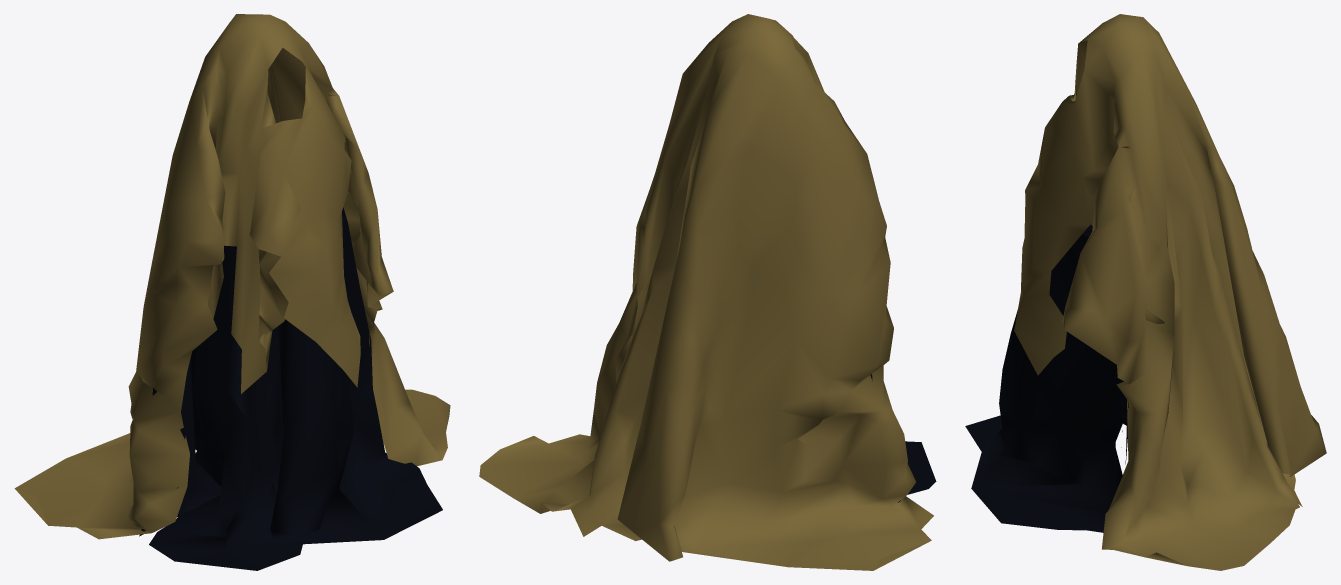
File: Monja.fbx
The picture shows the model from 3 angles, left to right: view 1: azimuth 30°, elevation 25°; view 2: azimuth 150°, elevation 25°; view 3: azimuth 270°, elevation 25°; orthographic projection. The views are drawn at different scales.
Parts seen in each view (by area): view 1: Plane003, Plane002; view 2: Plane003, Plane002; view 3: Plane003, Plane002.
Boxes of the visible parts, x1=… form: Plane003: x1=14, y1=14, x2=450, y2=539; Plane002: x1=139, y1=207, x2=442, y2=570; Plane003: x1=479, y1=14, x2=933, y2=570; Plane002: x1=870, y1=374, x2=936, y2=502; Plane003: x1=1014, y1=14, x2=1326, y2=570; Plane002: x1=965, y1=224, x2=1128, y2=532.
Bounding box in the file's own units: 114 × 124 × 89.36.
